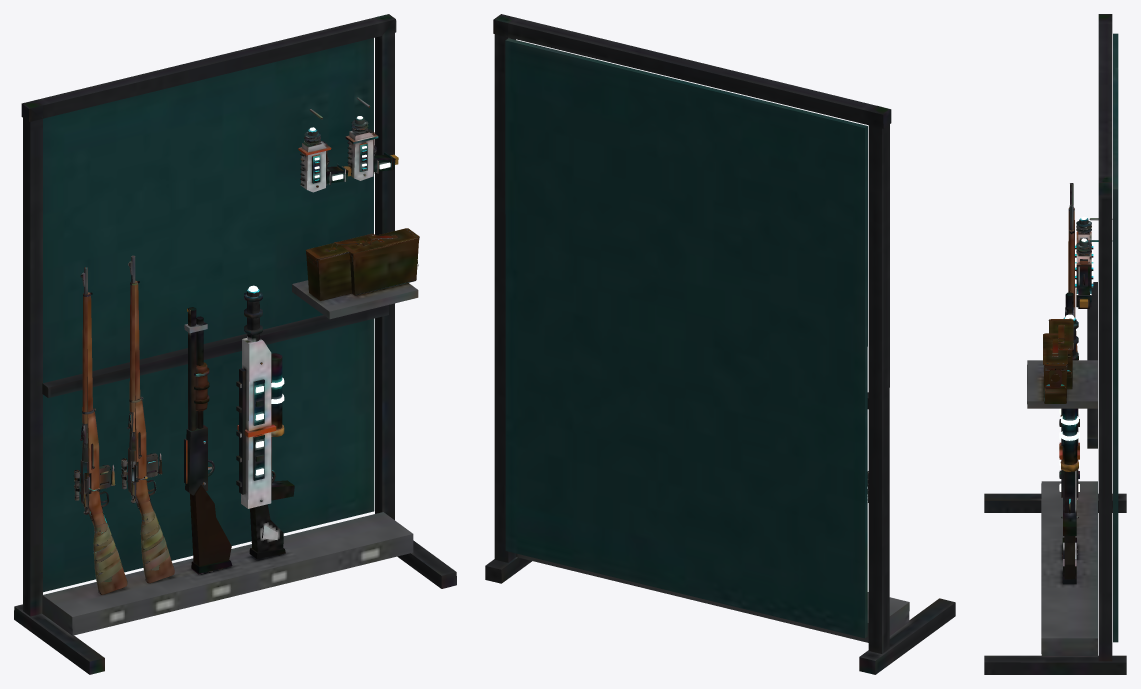
The model's file is weapon_rack.glb.
The picture shows the model from 3 angles, left to right: view 1: azimuth 30°, elevation 25°; view 2: azimuth 150°, elevation 25°; view 3: azimuth 270°, elevation 25°; orthographic projection. The views are drawn at different scales.
Parts seen in each view (by area): view 1: weapon_rack; view 2: weapon_rack; view 3: weapon_rack.
Part boxes in pixels (<box>): weapon_rack: <box>14,14,456,674</box>; weapon_rack: <box>485,14,955,674</box>; weapon_rack: <box>984,14,1126,674</box>.
Bounding box in the file's own units: 1.4 × 1.9 × 0.4983.
2 materials, 2 textured.
